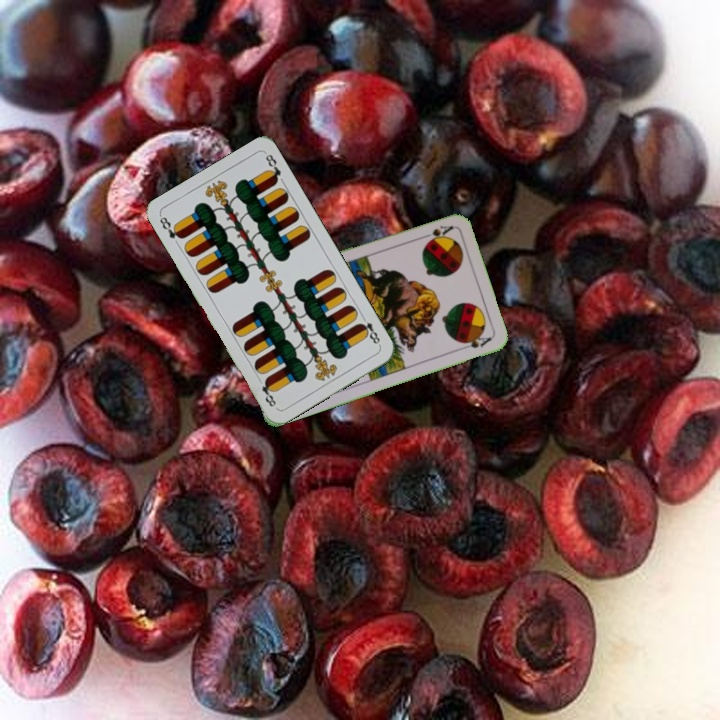E8: (355, 311, 383, 349), (155, 212, 186, 242)
SA: (416, 221, 456, 244)
